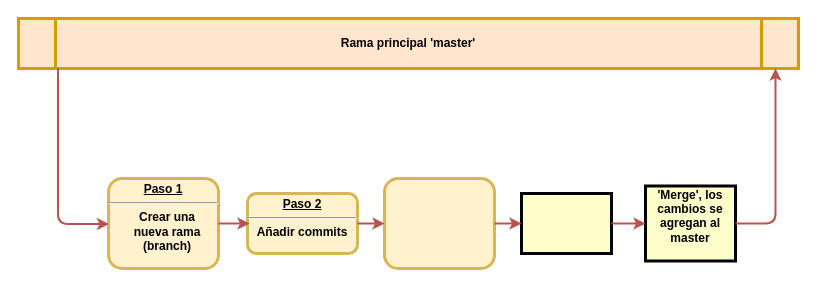
This 817x287 diagram has some shape labels left out. The shapes that lost their labels are listed below. From the top down, each one's box as (x1, y1, x2, y2) in pixels, then its label:
(382, 176, 496, 270): Paso 3 Hacer un 'pull request'
(520, 192, 612, 254): Discusión y revisión de cambios
